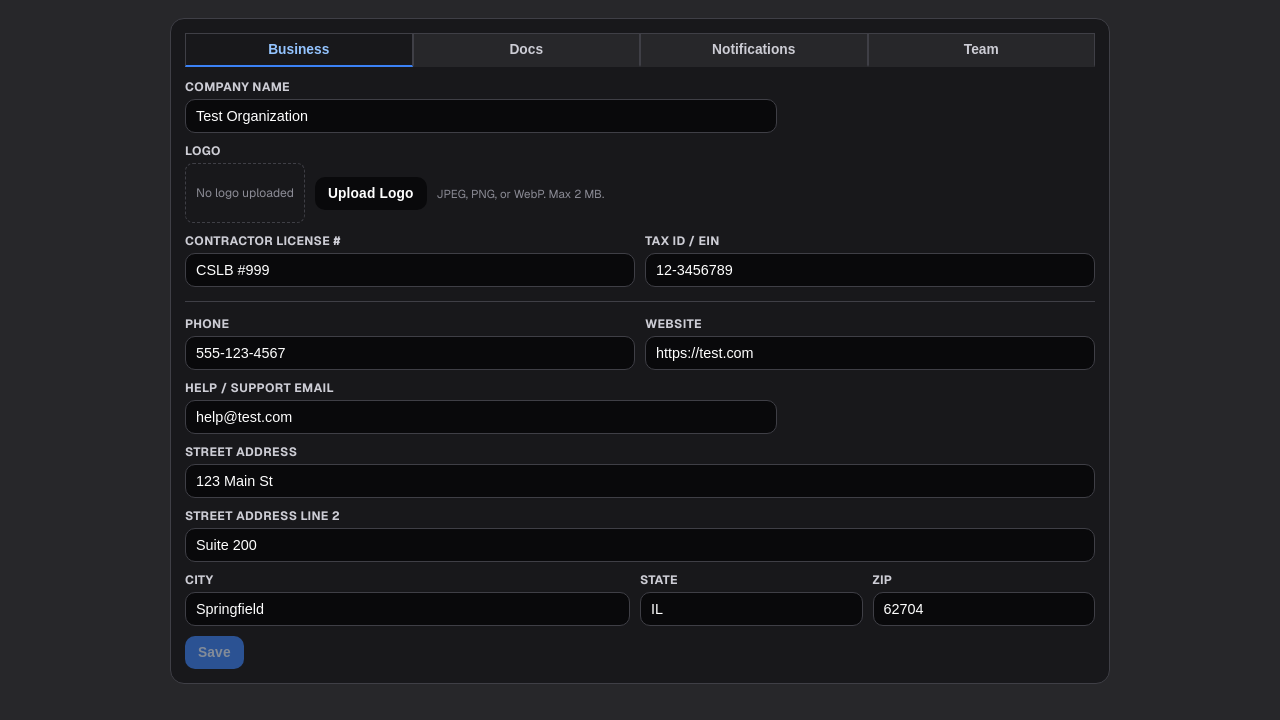
Scenario: OrganizationConsole > Team Tab › shows 'You' badge for the current user
Expected: the text "Company Name" is shown, [185,79,290,95]
Click the button "Team". click: (981, 50)
box: [868,33,1095,67]
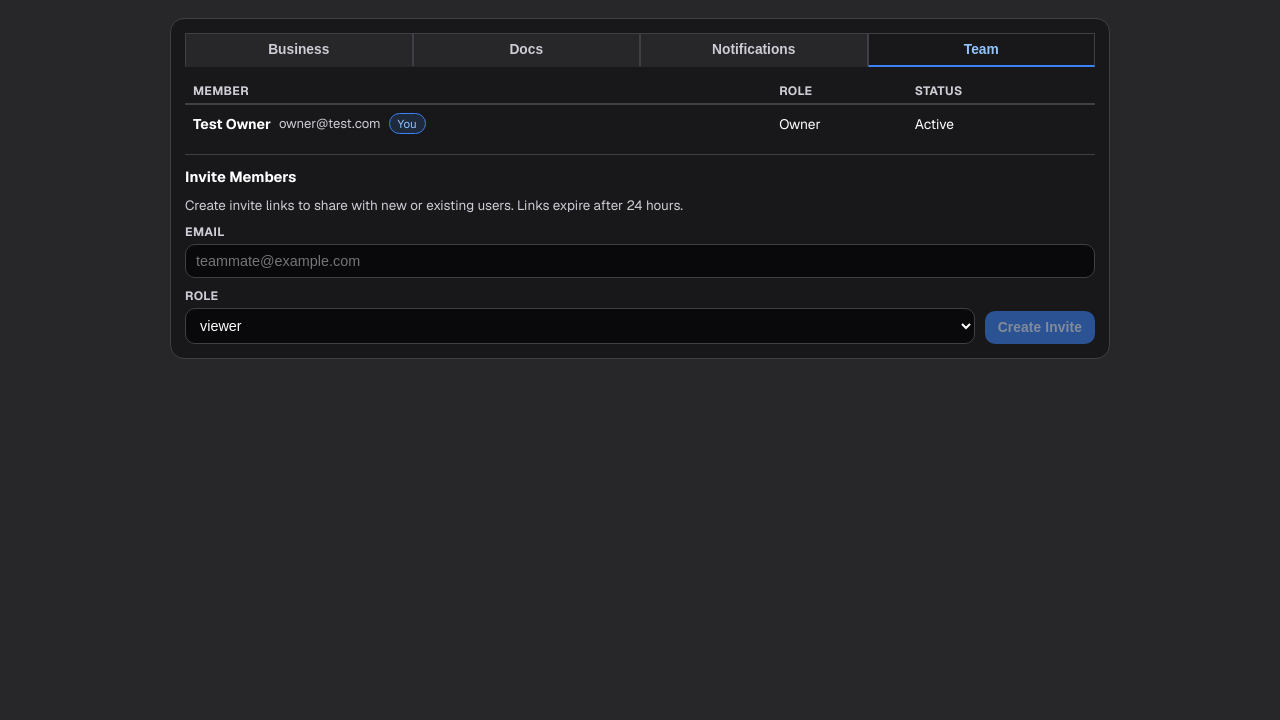
Result: the text "You" is shown at [389,113,426,134]
